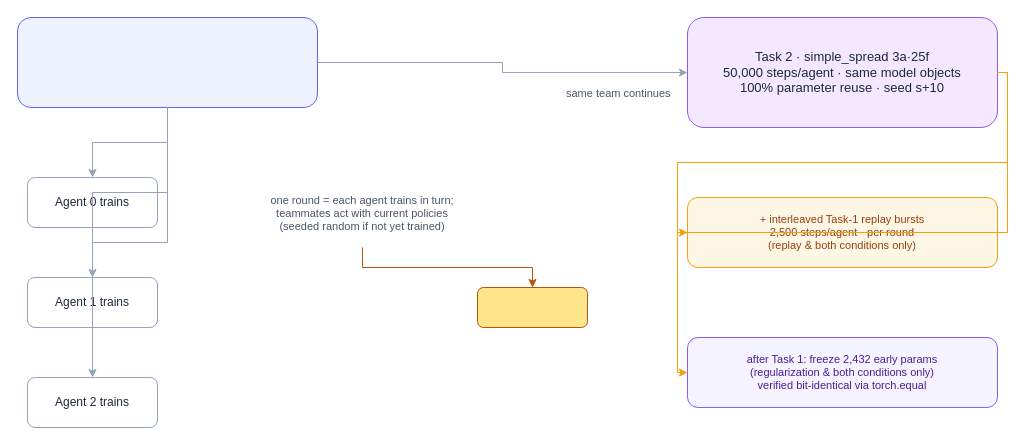
The diagram is 1033 pixels wide and 445 high, and some of its shapes have lost their labels. Here are the shapes that lost their labels. From the top down, the box of each, then its label:
(16, 16, 318, 108): Task 1 · simple_spread 3a·50f 50,000 steps/agent · 5 rounds · seed s
(476, 286, 588, 328): × 5 rounds
